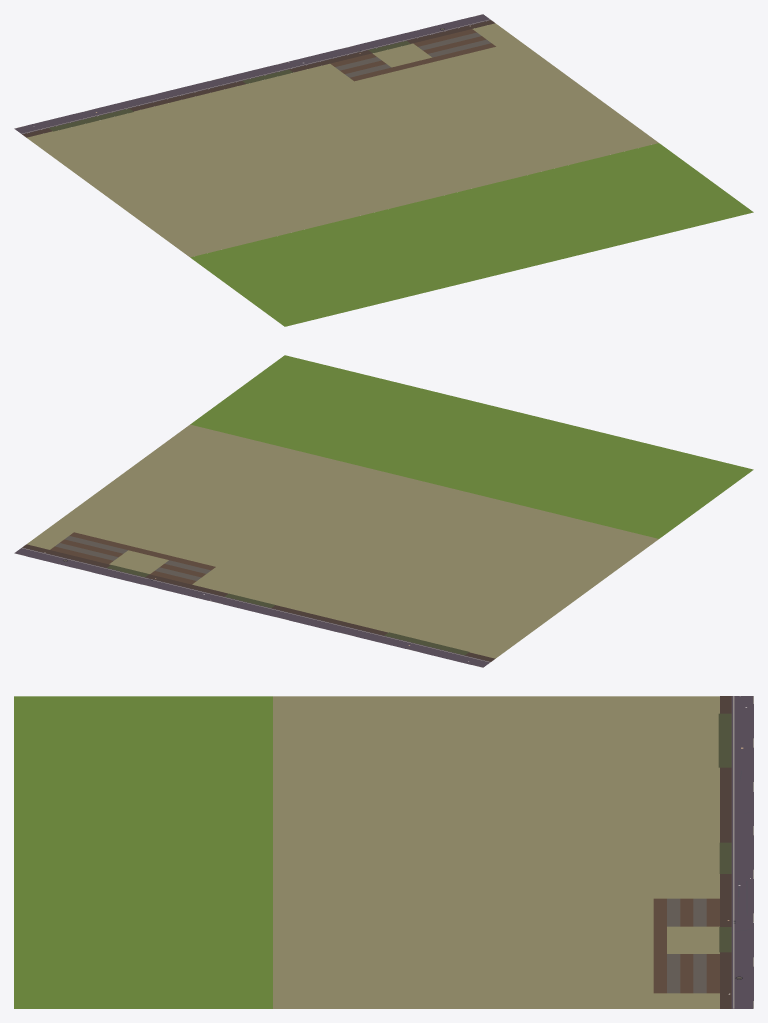
Rendered from cure-9-3.glb.
3 views of the same model, one above another, from view 1: azimuth 30°, elevation 25°; view 2: azimuth 150°, elevation 25°; view 3: azimuth 270°, elevation 25° (orthographic). The views are drawn at different scales.
Visible parts, largest first — view 1: cure-9-3; view 2: cure-9-3; view 3: cure-9-3.
Part boxes in pixels (x1,y1,x2,y2): cure-9-3: [14, 14, 753, 326]; cure-9-3: [14, 355, 753, 667]; cure-9-3: [14, 696, 753, 1008].
Size of the model in its own units: 100 by 0.017 by 100.
